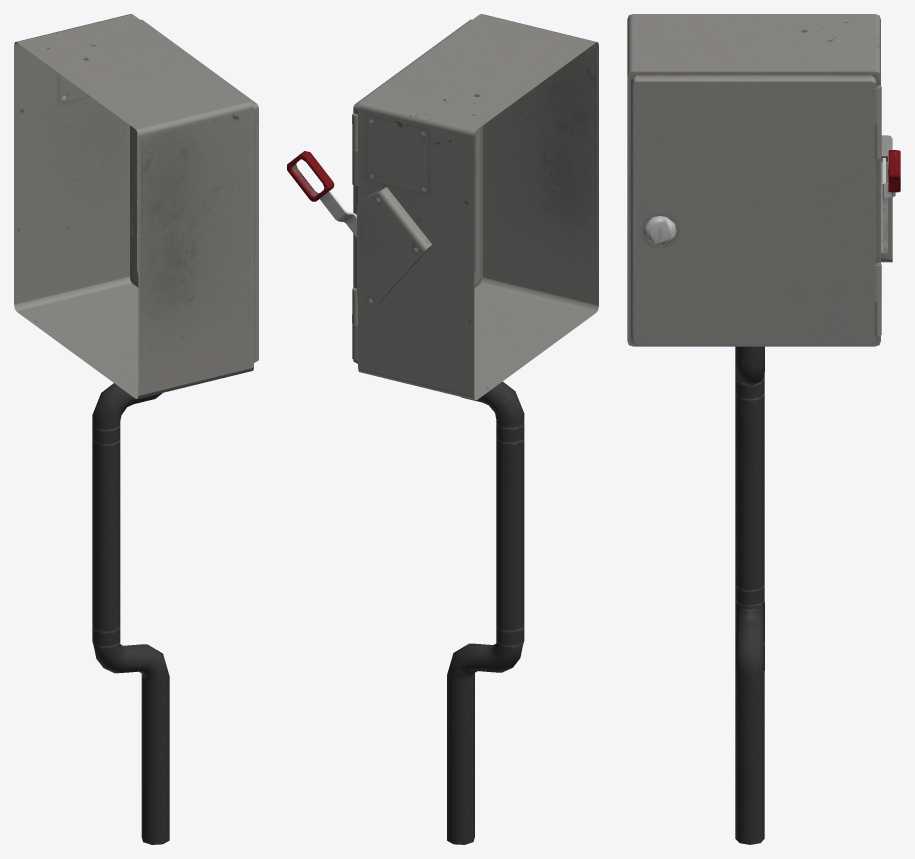
The model's file is SM_FuseBox_01.fbx.
3 renders of one model, left to right at view 1: azimuth 30°, elevation 25°; view 2: azimuth 150°, elevation 25°; view 3: azimuth 270°, elevation 25°, orthographic. The views are drawn at different scales.
Parts seen in each view (by area): view 1: SM_FuseBox_01_LOD1; view 2: SM_FuseBox_01_LOD1; view 3: SM_FuseBox_01_LOD1.
Part boxes in pixels (left/top/right/bottom): SM_FuseBox_01_LOD1: left=14, top=14, right=258, bottom=844; SM_FuseBox_01_LOD1: left=287, top=14, right=598, bottom=844; SM_FuseBox_01_LOD1: left=627, top=14, right=900, bottom=844.
Size of the model in its own units: 41.48 by 171 by 53.88.
